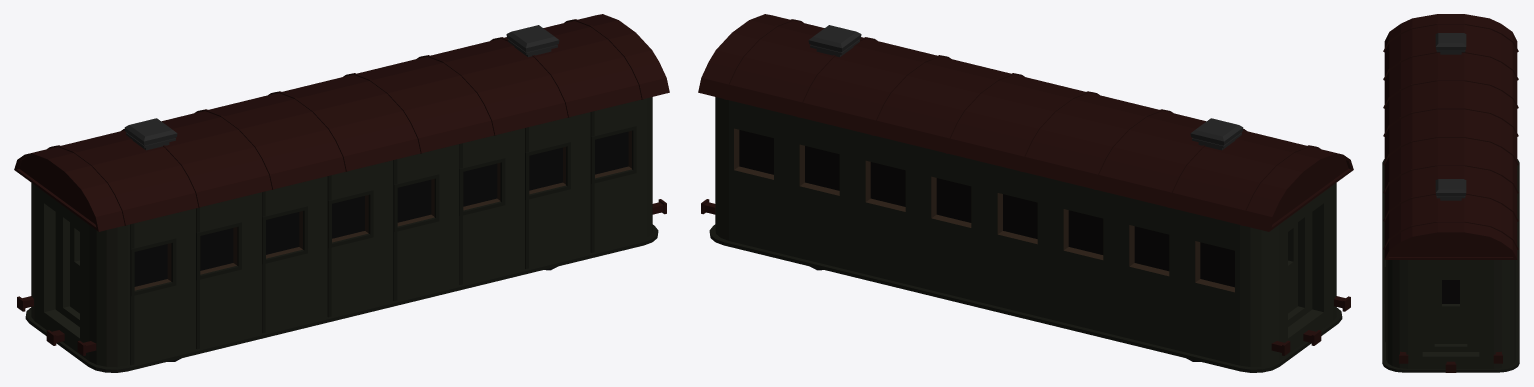
The model's file is Vagon.obj.
3 renders of one model, left to right at view 1: azimuth 30°, elevation 25°; view 2: azimuth 150°, elevation 25°; view 3: azimuth 270°, elevation 25°, orthographic. The views are drawn at different scales.
Size of the model in its own units: 8.06 by 2.95 by 2.1.
